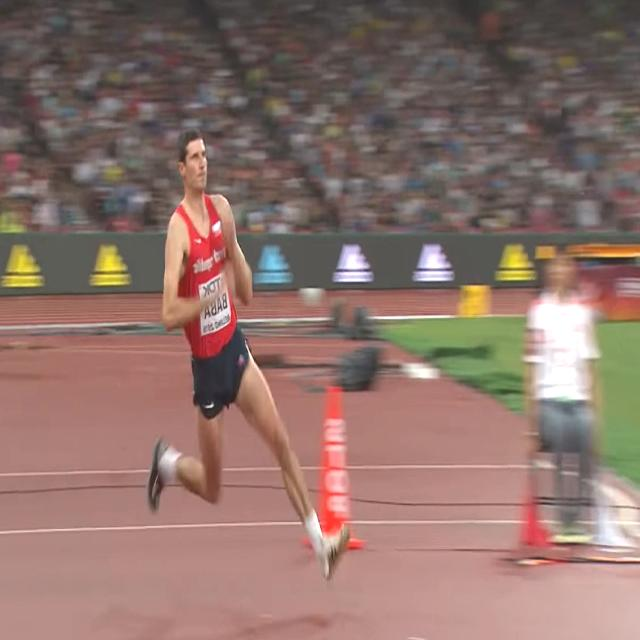run: (146, 126, 351, 585)
